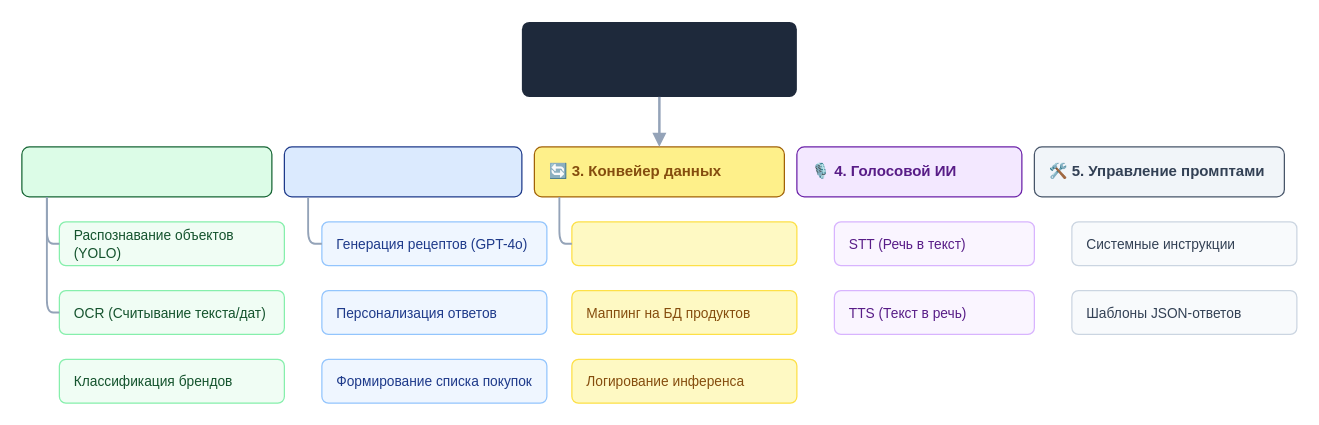
Some shapes in this 1319 by 425 pixel diagram are drawn without their labels. Here are the shapes that lost their labels. From the top down, the centre of each, then its label:
point 658,58: Модуль ИИ-Интеллекта
point 146,171: 👁️ 1. Компьютерное зрение
point 402,171: 📝 2. Языковой движок
point 684,243: Препроцессинг фото (Сжатие)
